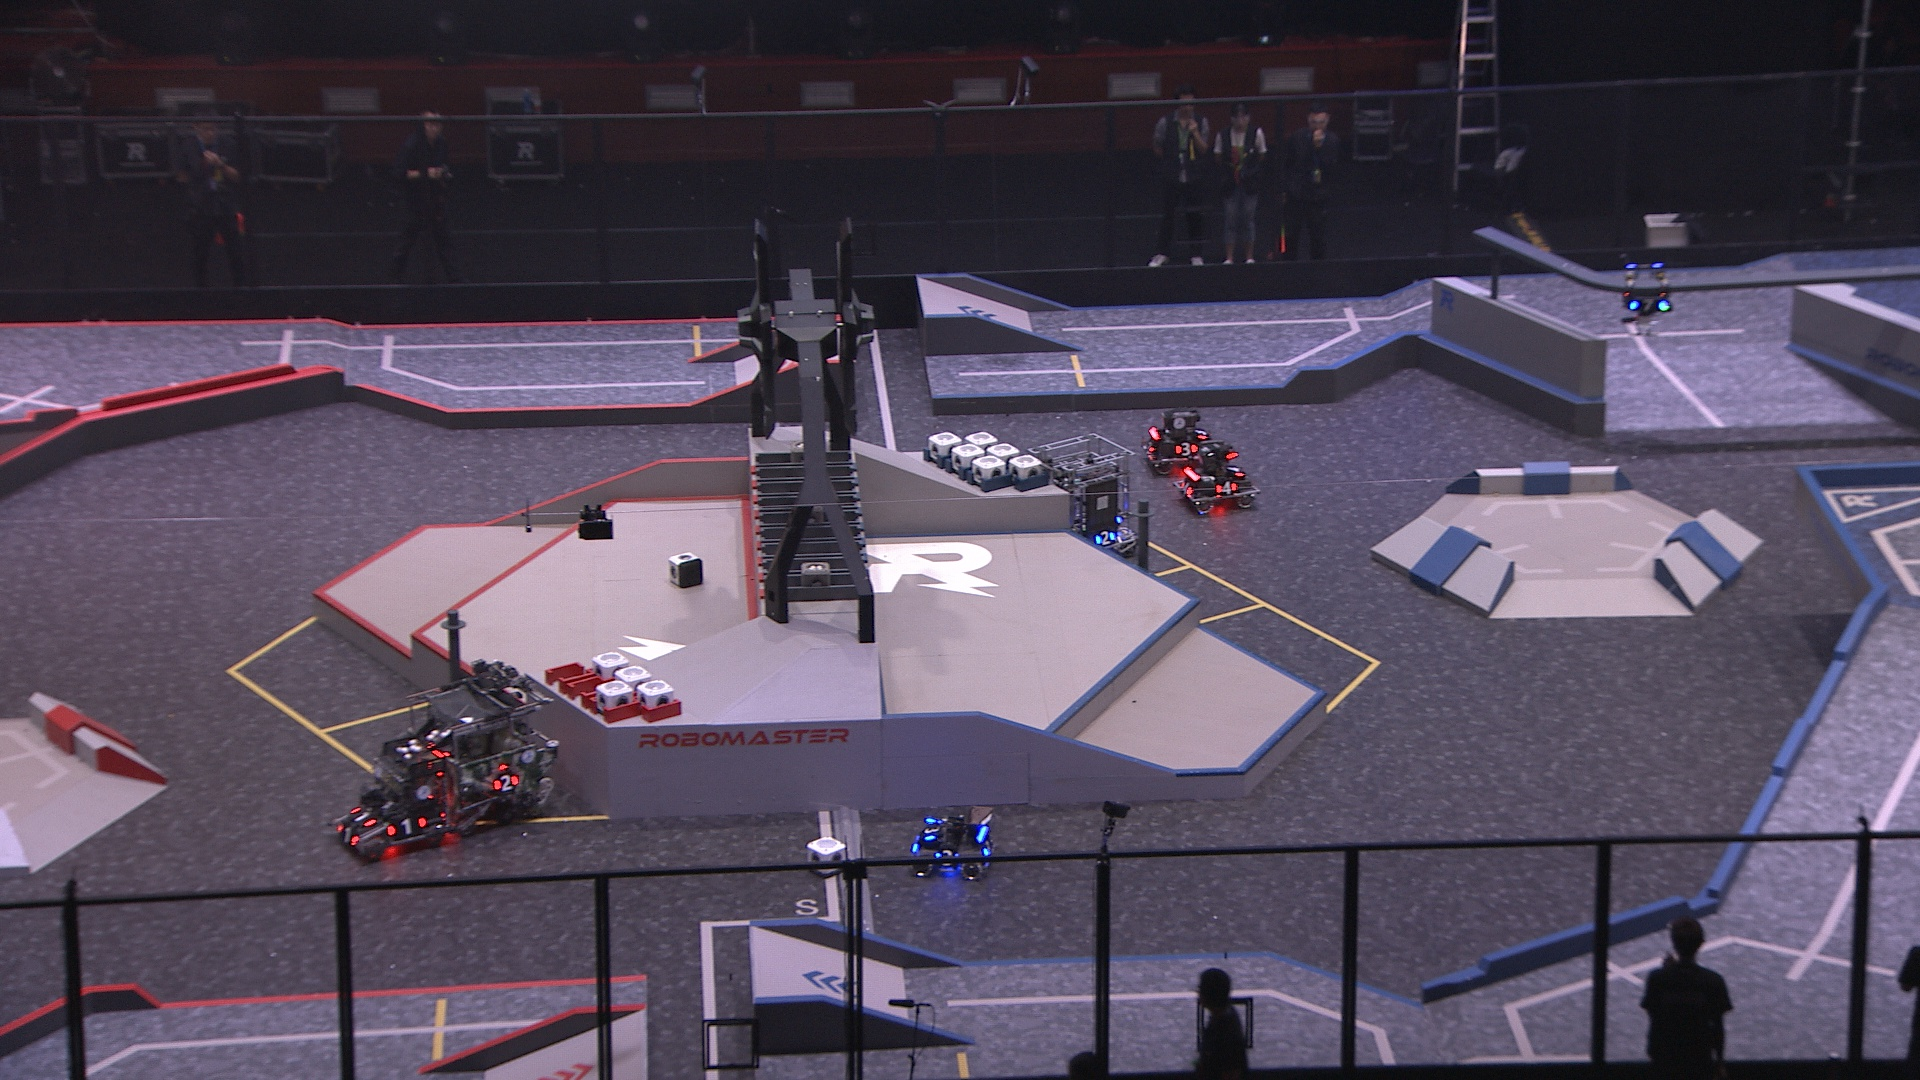armor: (386, 814, 429, 841), (332, 820, 361, 849), (345, 804, 378, 829), (1629, 295, 1669, 315), (491, 770, 520, 794), (930, 845, 960, 868), (916, 816, 942, 843), (1211, 479, 1240, 500), (1091, 527, 1120, 549), (1174, 477, 1195, 496), (1174, 440, 1196, 458), (978, 837, 996, 858), (1141, 438, 1156, 458)
car: (407, 675, 560, 833), (327, 735, 451, 861), (1021, 431, 1138, 555), (907, 806, 994, 884), (1168, 442, 1257, 516), (1139, 405, 1222, 475)
watcher: (1618, 248, 1673, 338)
